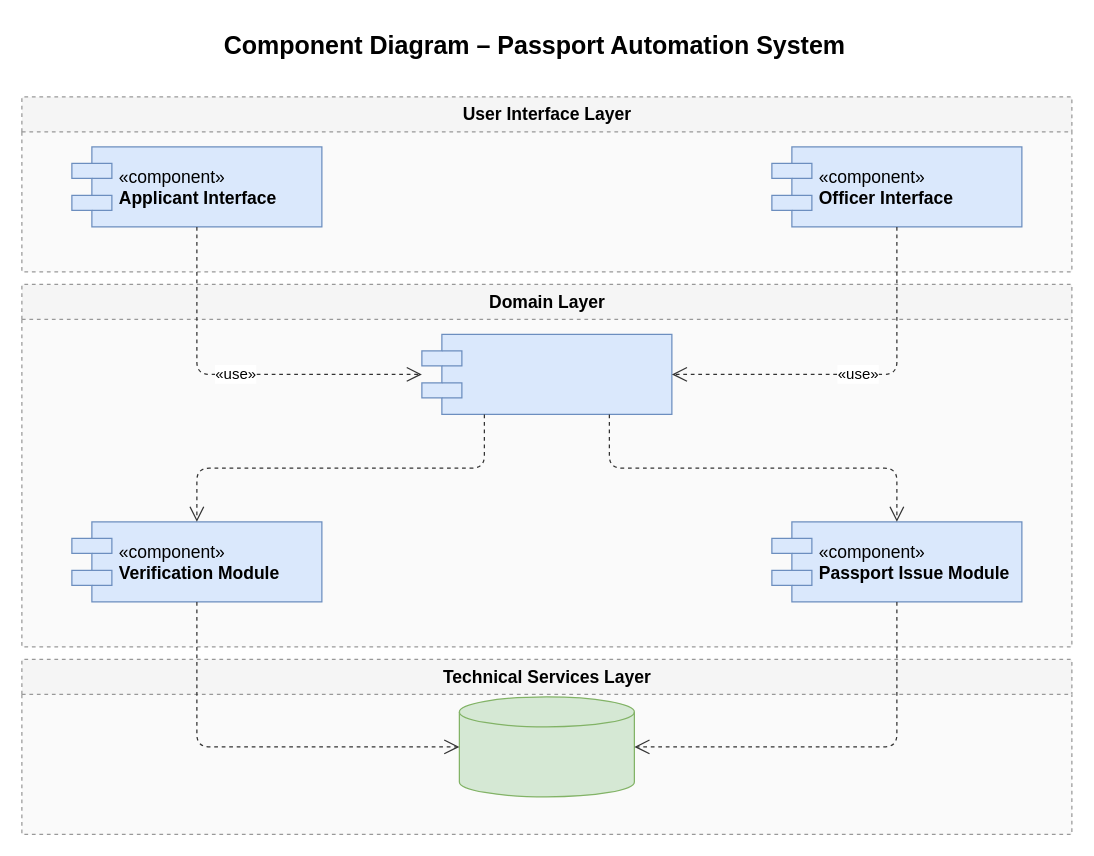
The diagram is 1094 pixels wide and 856 high, and some of its shapes have lost their labels. Each missing label, with the centre of its shape:
"Passport Database" goes at (546,746).
"«component» Passport Management System" goes at (546,373).
